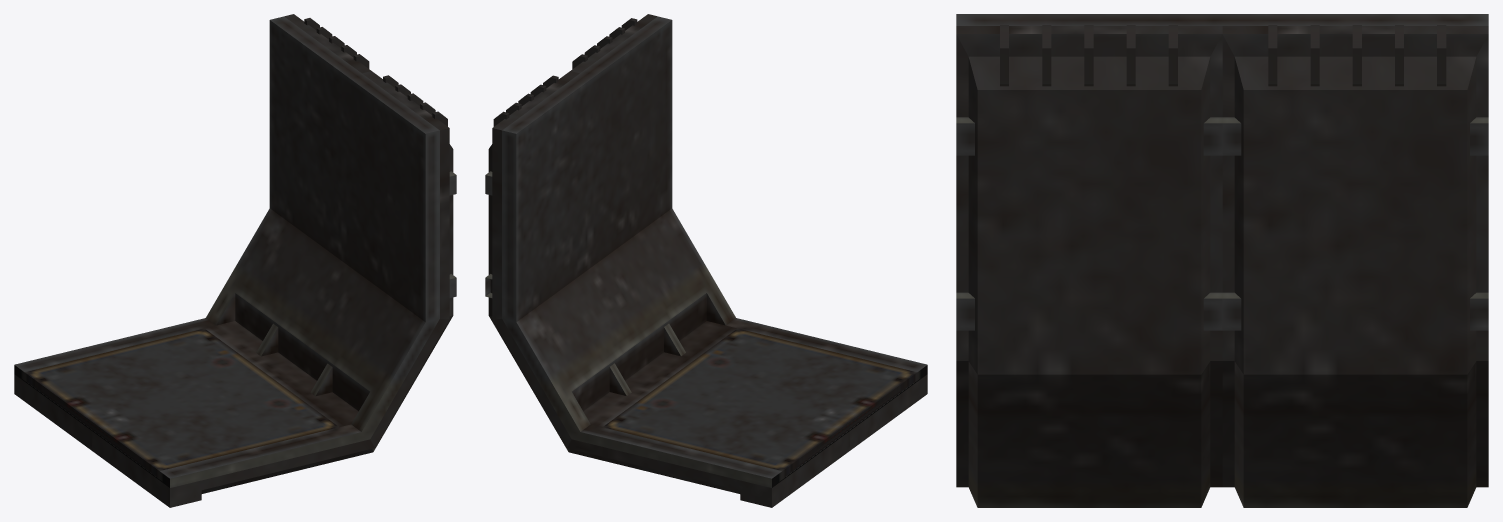
Rendered from Wall_combined_1.FBX.
The picture shows the model from 3 angles, left to right: view 1: azimuth 30°, elevation 25°; view 2: azimuth 150°, elevation 25°; view 3: azimuth 270°, elevation 25°; orthographic projection. The views are drawn at different scales.
Visible parts, largest first — view 1: Wall_combined_1; view 2: Wall_combined_1; view 3: Wall_combined_1.
Boxes of the visible parts, box(x1,y1,x2,y2) form: Wall_combined_1: box(14, 14, 456, 507); Wall_combined_1: box(485, 14, 927, 507); Wall_combined_1: box(956, 14, 1488, 507).
Bounding box in the file's own units: 323 × 336 × 300.
